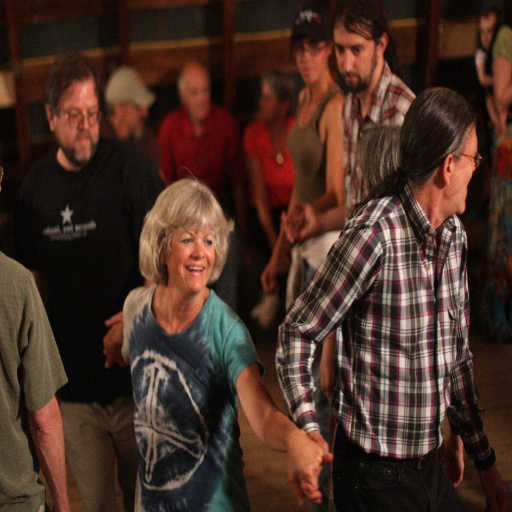hand: (299, 428, 332, 502), (100, 312, 124, 368), (283, 202, 316, 242), (283, 202, 304, 244), (103, 325, 124, 362), (447, 442, 463, 485), (259, 261, 277, 292), (484, 494, 511, 511), (279, 250, 292, 276)
